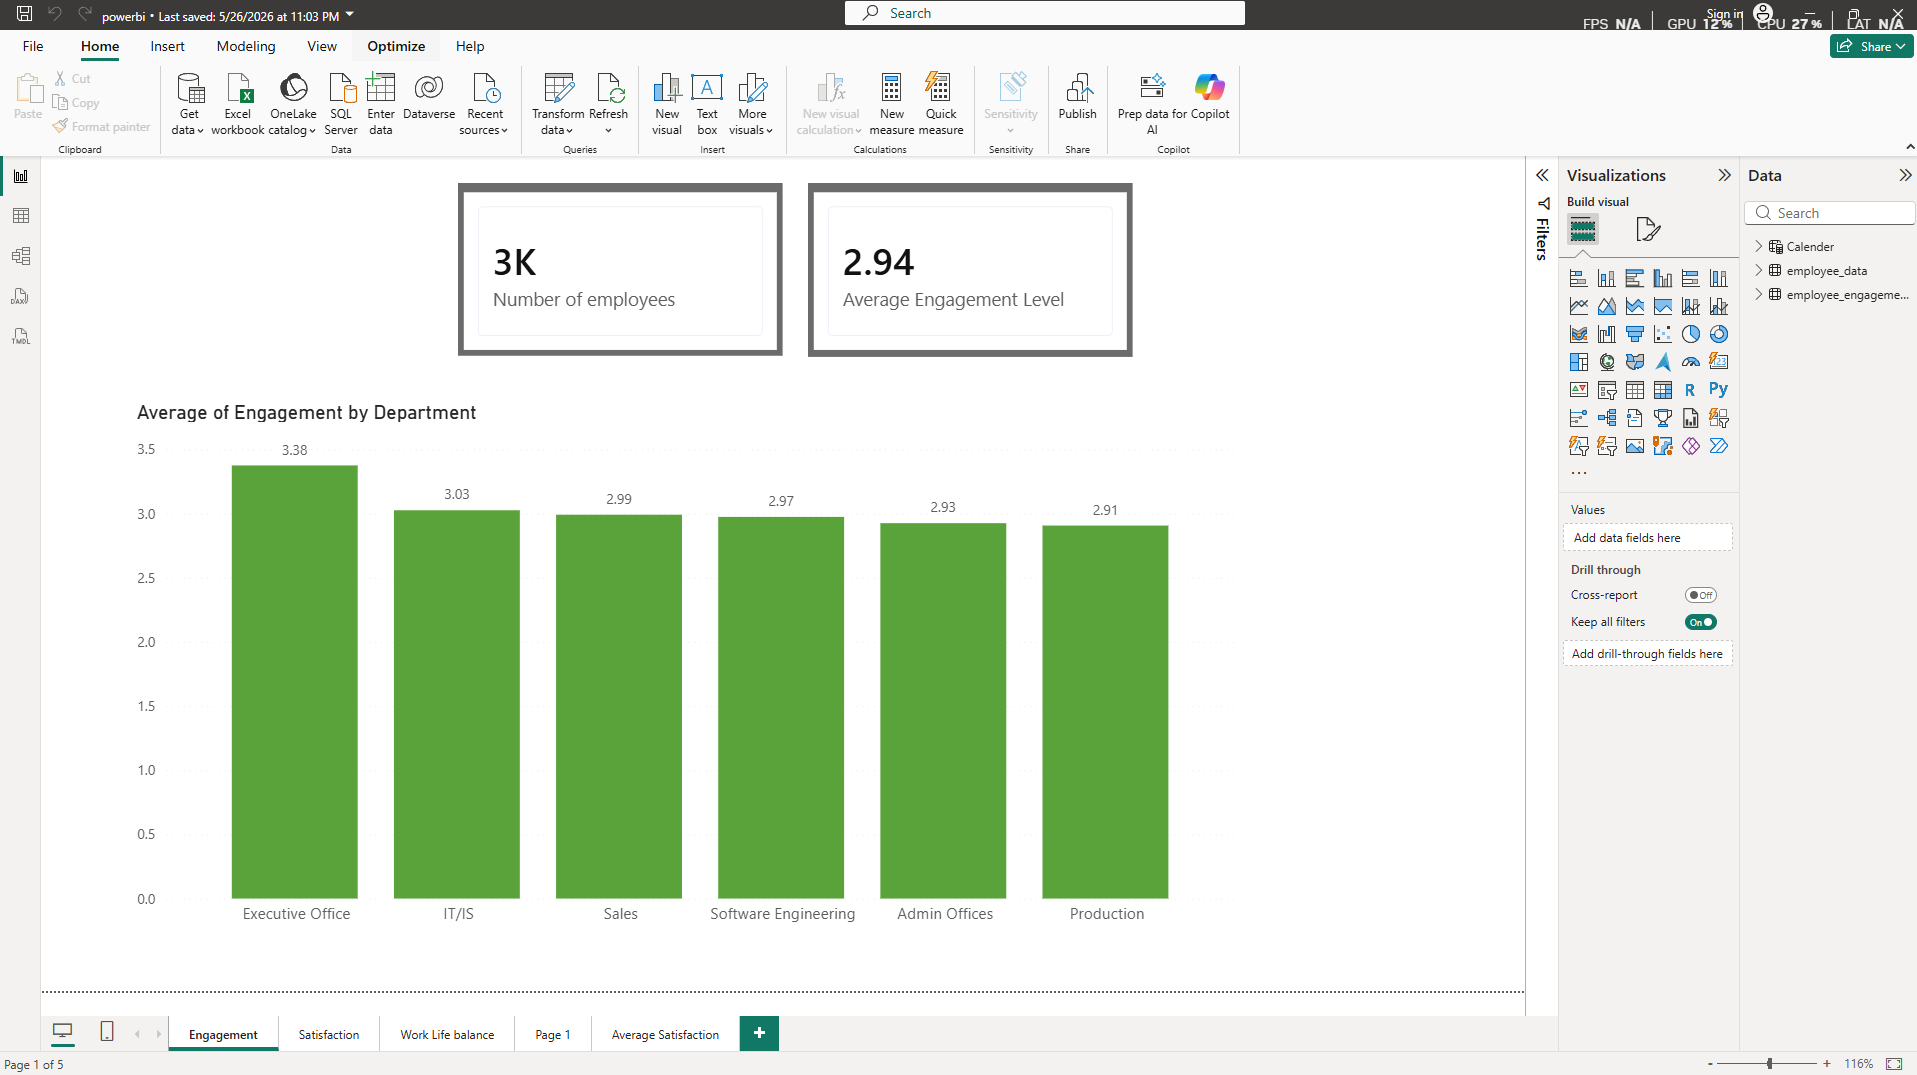

Layout of this report page (visuals, bound fields, positions):
{"tool":"powerbi","page":{"name":"Engagement","canvas":[1280,720],"ordinal":0},"visuals":[{"type":"cardVisual","fields":{"Data":["CountNonNull(employee_engagement_survey_data.EmpID)"]},"box":[359.7,23.3,280.3,149.2],"z":0},{"type":"cardVisual","fields":{"Data":["Avg(employee_engagement_survey_data.Engagement)"]},"box":[661.4,23.3,280.1,149.8],"z":1000},{"type":"columnChart","title":"Average of Engagement by Department","fields":{"Category":["employee_data.DepartmentType"],"Y":["Avg(employee_engagement_survey_data.Engagement)"]},"box":[77.8,210.1,959,461],"z":3001}]}

Visuals, with their boxes on the page's 1280x720 design canvas (x1, y1, x2, y2). These are canvas units, not pixel positions in the 1917x1075 screenshot, which may show the page scaled, cropped or inside an application window:
cardVisual - CountNonNull(employee_engagement_survey_data.EmpID): bbox=[360, 23, 640, 172]
cardVisual - Avg(employee_engagement_survey_data.Engagement): bbox=[661, 23, 942, 173]
"Average of Engagement by Department" columnChart: bbox=[78, 210, 1037, 671]
